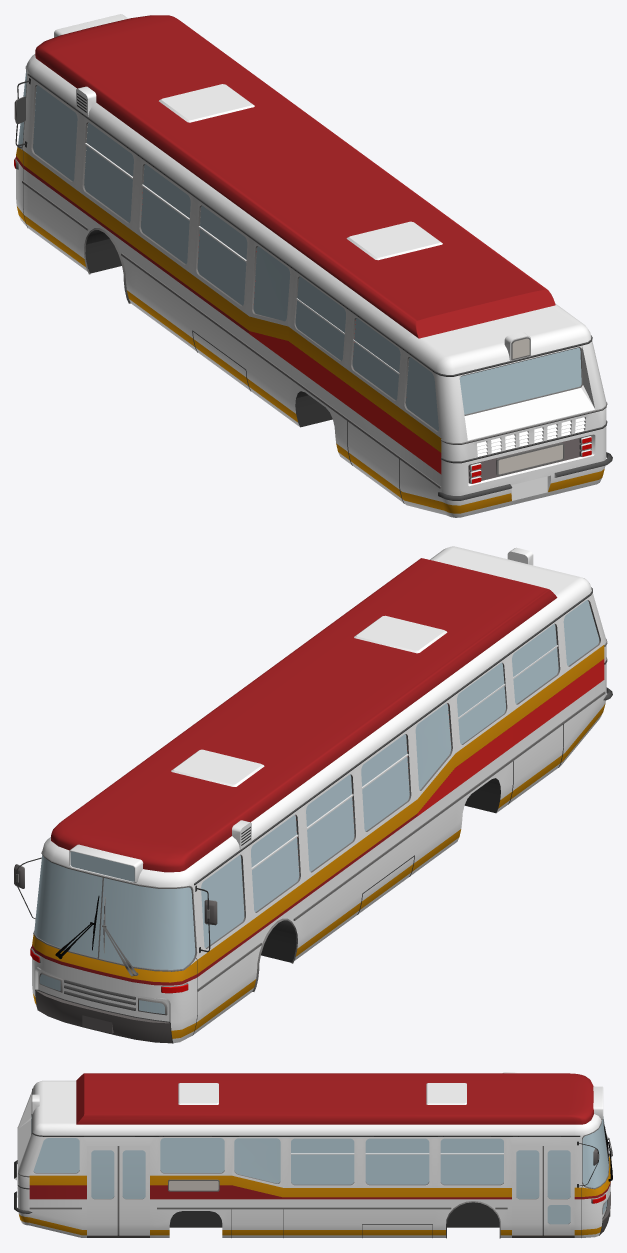
The model's file is Bus3.fbx.
3 views of the same model, one above another, from view 1: azimuth 30°, elevation 25°; view 2: azimuth 150°, elevation 25°; view 3: azimuth 270°, elevation 25° (orthographic). The views are drawn at different scales.
Visible parts, largest first — view 1: Bus4-BestBus; view 2: Bus4-BestBus; view 3: Bus4-BestBus.
Boxes of the visible parts, left/top/right/bottom form: Bus4-BestBus: left=14, top=14, right=612, bottom=517; Bus4-BestBus: left=14, top=546, right=612, bottom=1043; Bus4-BestBus: left=14, top=1072, right=612, bottom=1238.
Size of the model in its own units: 312 by 285 by 1280.
